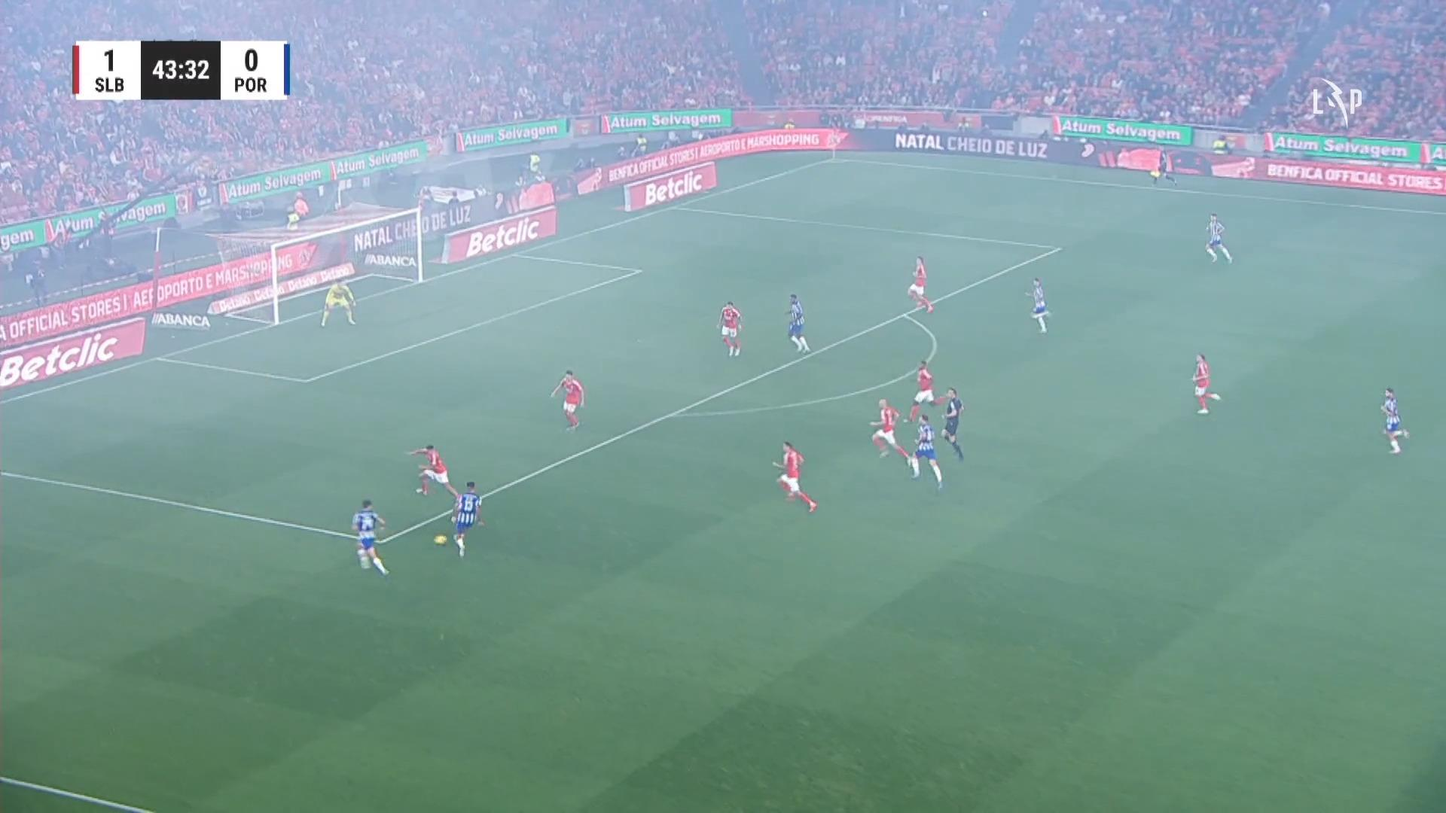ball: (433, 534, 447, 545)
goalkeeper: (319, 280, 356, 327)
player: (771, 440, 818, 512), (869, 397, 914, 466), (351, 498, 389, 576), (407, 443, 459, 498), (450, 480, 485, 557), (909, 413, 943, 491), (904, 358, 938, 423), (550, 369, 584, 431), (1380, 386, 1409, 453), (1191, 352, 1220, 413), (784, 292, 810, 354), (907, 255, 934, 313), (1024, 276, 1051, 333), (1203, 211, 1232, 263), (718, 300, 743, 357)
referee: (935, 386, 965, 460), (1150, 144, 1179, 189)
